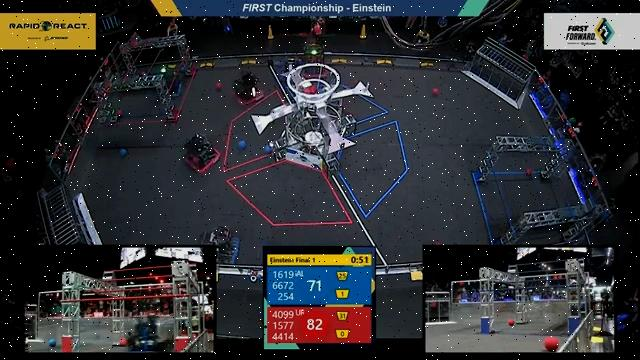Robot: (191, 231, 247, 266), (179, 131, 222, 176), (228, 66, 266, 109), (297, 41, 329, 78), (155, 66, 182, 99)
